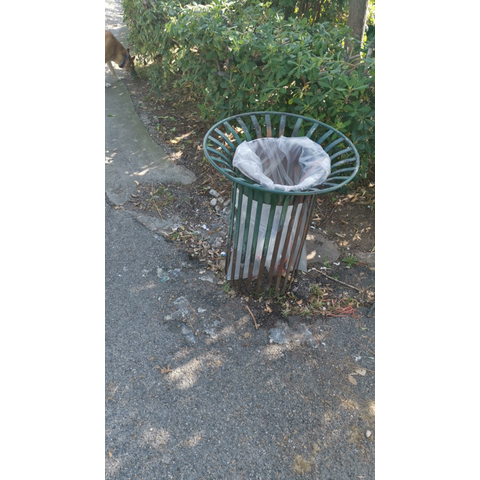poubelle: (199, 109, 363, 301)
